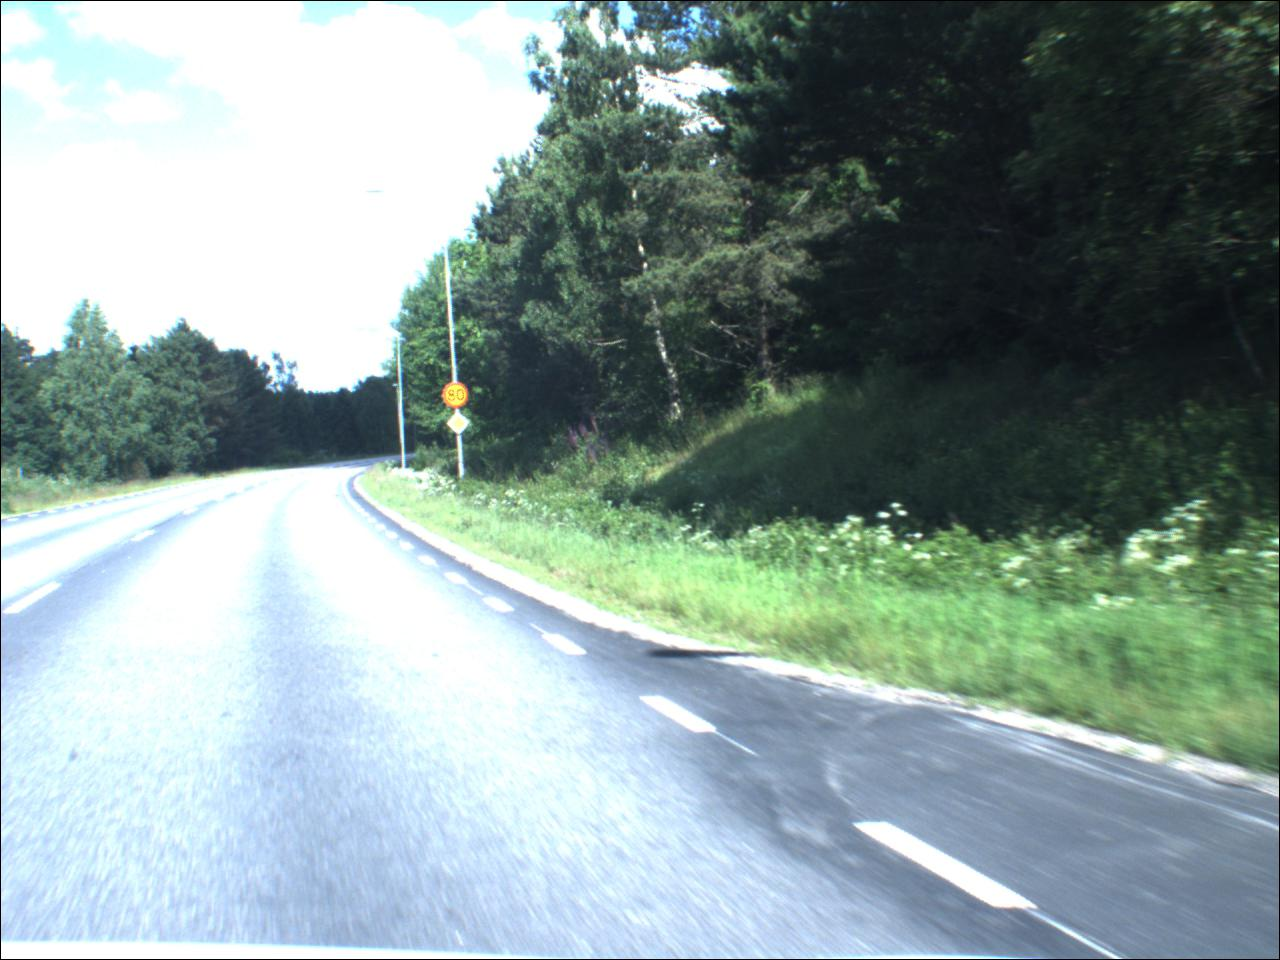80_SIGN: (444, 384, 472, 413)
PRIORITY_ROAD: (449, 413, 474, 436)
